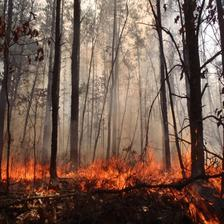fire: (2, 152, 190, 192), (175, 195, 216, 224), (204, 157, 222, 195)
